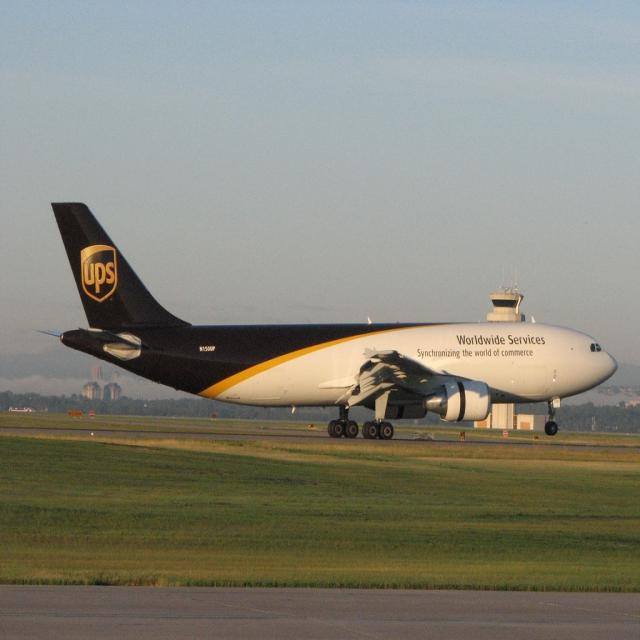ups: (81, 245, 118, 303)
